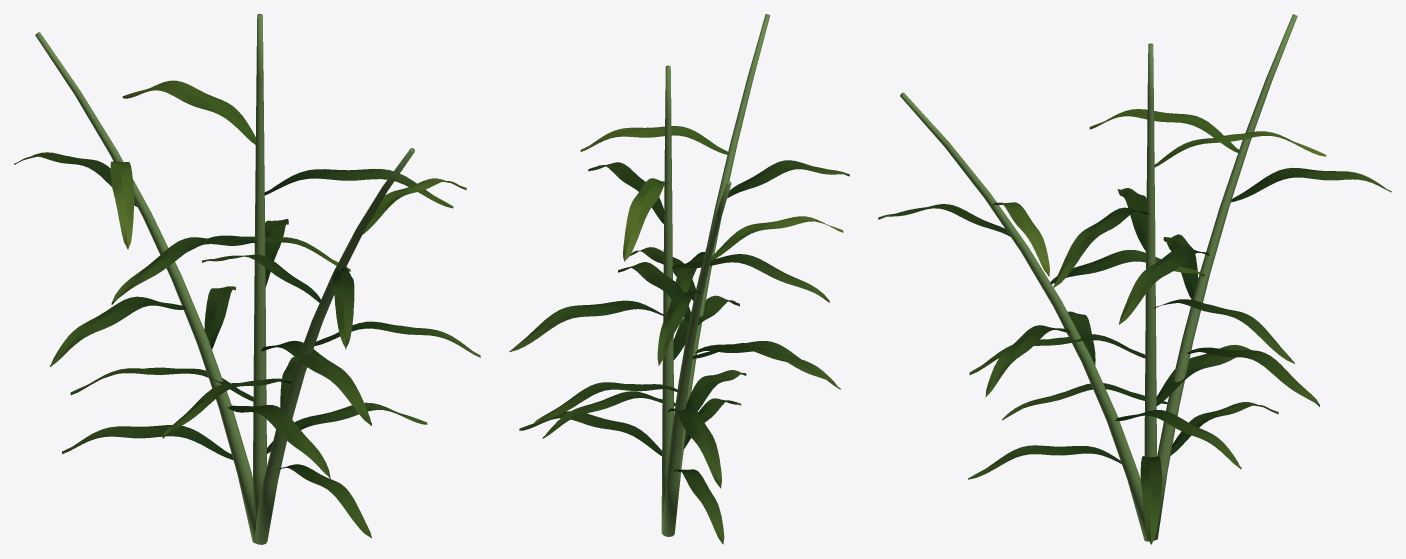
Rendered from lavender-06.glb.
The picture shows the model from 3 angles, left to right: view 1: azimuth 30°, elevation 25°; view 2: azimuth 150°, elevation 25°; view 3: azimuth 270°, elevation 25°; orthographic projection. The views are drawn at different scales.
Visible parts, largest first — view 1: lavender_stage_06_leaf_veins.010, lavender_stage_06_stem_fibres.010, lavender_stage_06_young_leaf.010; view 2: lavender_stage_06_leaf_veins.010, lavender_stage_06_stem_fibres.010, lavender_stage_06_young_leaf.010; view 3: lavender_stage_06_leaf_veins.010, lavender_stage_06_stem_fibres.010, lavender_stage_06_young_leaf.010.
Part boxes in pixels (bbox=[...]): lavender_stage_06_leaf_veins.010: bbox=[14, 152, 480, 538]; lavender_stage_06_stem_fibres.010: bbox=[35, 14, 414, 544]; lavender_stage_06_young_leaf.010: bbox=[110, 80, 466, 249]; lavender_stage_06_leaf_veins.010: bbox=[509, 160, 849, 544]; lavender_stage_06_stem_fibres.010: bbox=[661, 14, 770, 536]; lavender_stage_06_young_leaf.010: bbox=[580, 126, 843, 261]; lavender_stage_06_leaf_veins.010: bbox=[878, 167, 1391, 544]; lavender_stage_06_stem_fibres.010: bbox=[900, 14, 1297, 541]; lavender_stage_06_young_leaf.010: bbox=[993, 109, 1326, 276].
Size of the model in its own units: 0.225 by 0.3063 by 0.2879.
Materials: 3 (2 with a texture image).
